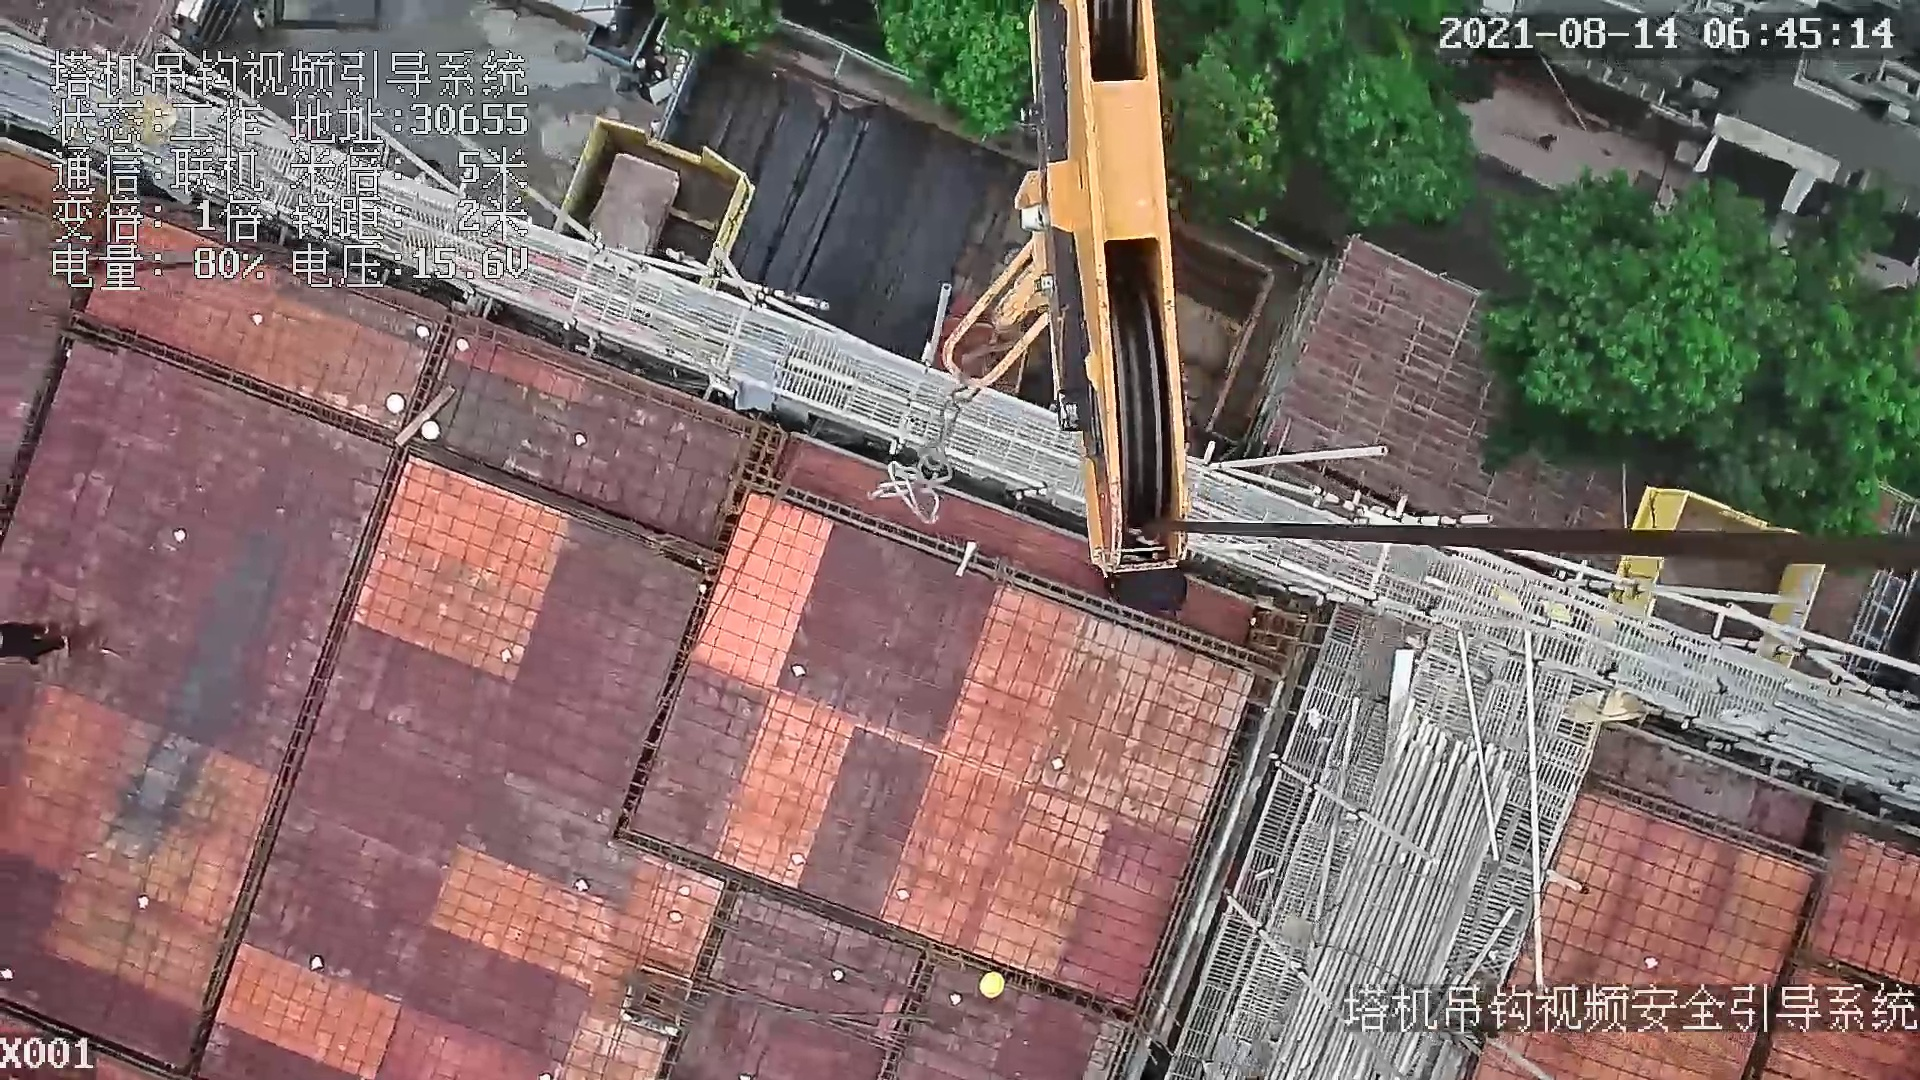helmet: (977, 971, 1008, 1005)
hook: (935, 1, 1200, 574)
person: (1100, 564, 1191, 617), (1, 616, 74, 667)
